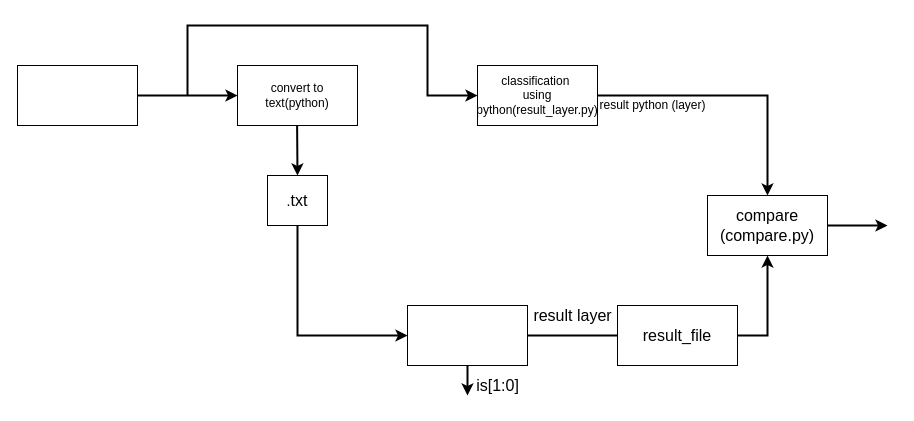
The diagram is 914 pixels wide and 421 high, and some of its shapes have lost their labels. The shapes that lost their labels are listed below. From the top down, each one's centre as x and y in pixels, then its label:
At [77,95]: "data_test(image)".
At [467,335]: "DUT".
